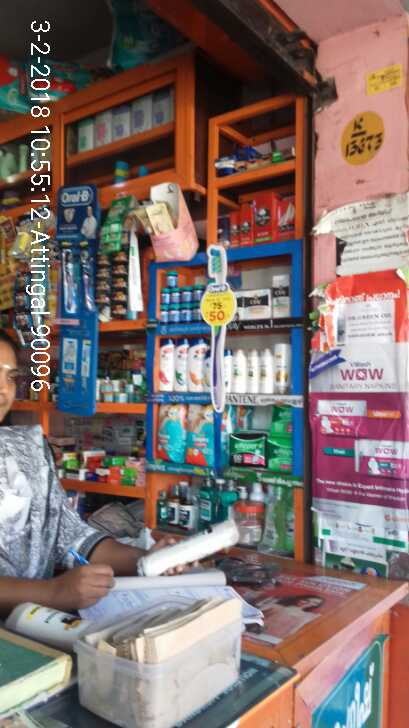oralcare: (53, 186, 99, 412)
vicks: (156, 271, 203, 329)
